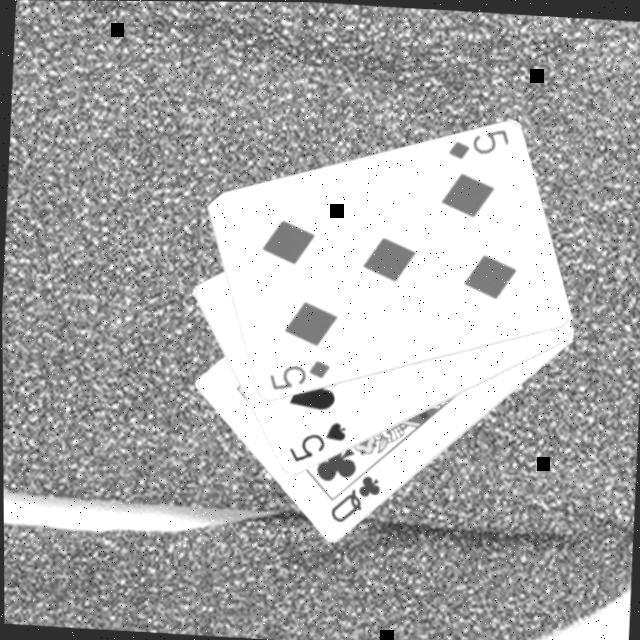5D: (444, 120, 514, 164), (266, 352, 334, 394)
5S: (286, 414, 352, 466)
QC: (326, 467, 386, 526)
